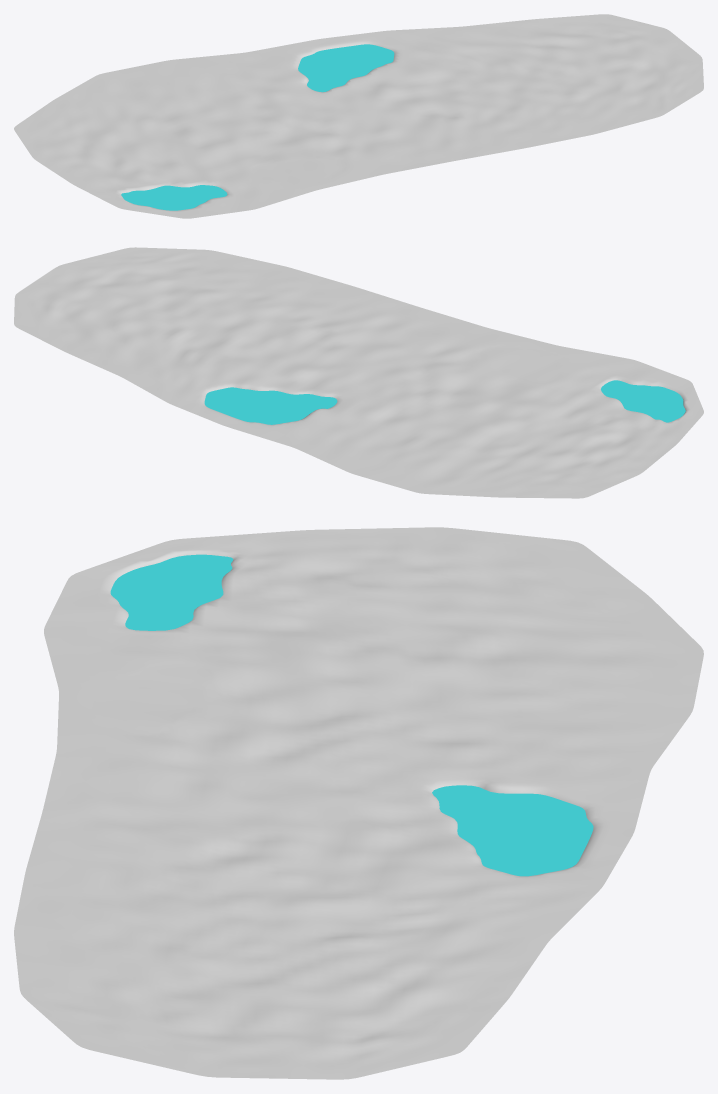
Rendered from Desert New Version.fbx.
The picture shows the model from 3 angles, top to bottom: view 1: azimuth 30°, elevation 25°; view 2: azimuth 150°, elevation 25°; view 3: azimuth 270°, elevation 25°; orthographic projection. The views are drawn at different scales.
Visible parts, largest first — view 1: NewGround, Lake02, Lake01; view 2: NewGround, Lake02, Lake01; view 3: NewGround, Lake02, Lake01.
Part boxes in pixels (<box>): NewGround: <box>14,14,703,218</box>; Lake02: <box>298,44,394,92</box>; Lake01: <box>121,185,227,210</box>; NewGround: <box>14,247,703,498</box>; Lake02: <box>204,387,337,424</box>; Lake01: <box>601,380,685,422</box>; NewGround: <box>14,527,703,1079</box>; Lake02: <box>432,785,593,876</box>; Lake01: <box>110,554,233,630</box>.
Bounding box in the file's own units: 91811 × 1273 × 48472.
